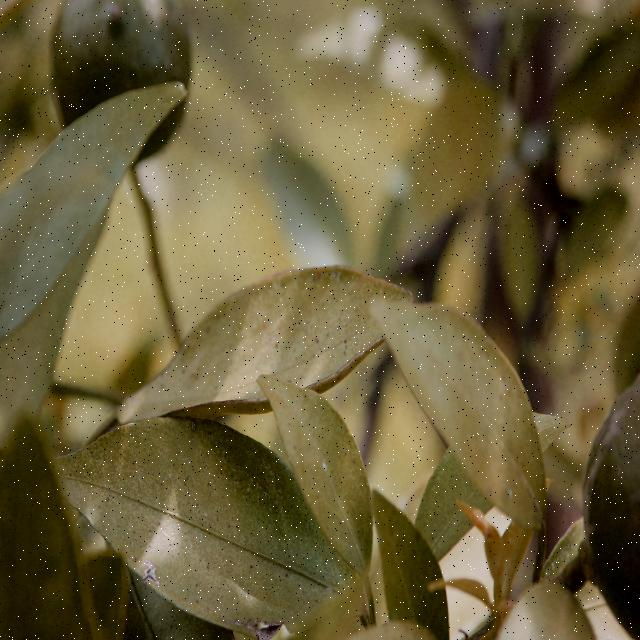blackspot: (114, 432, 328, 628), (169, 299, 359, 395)
